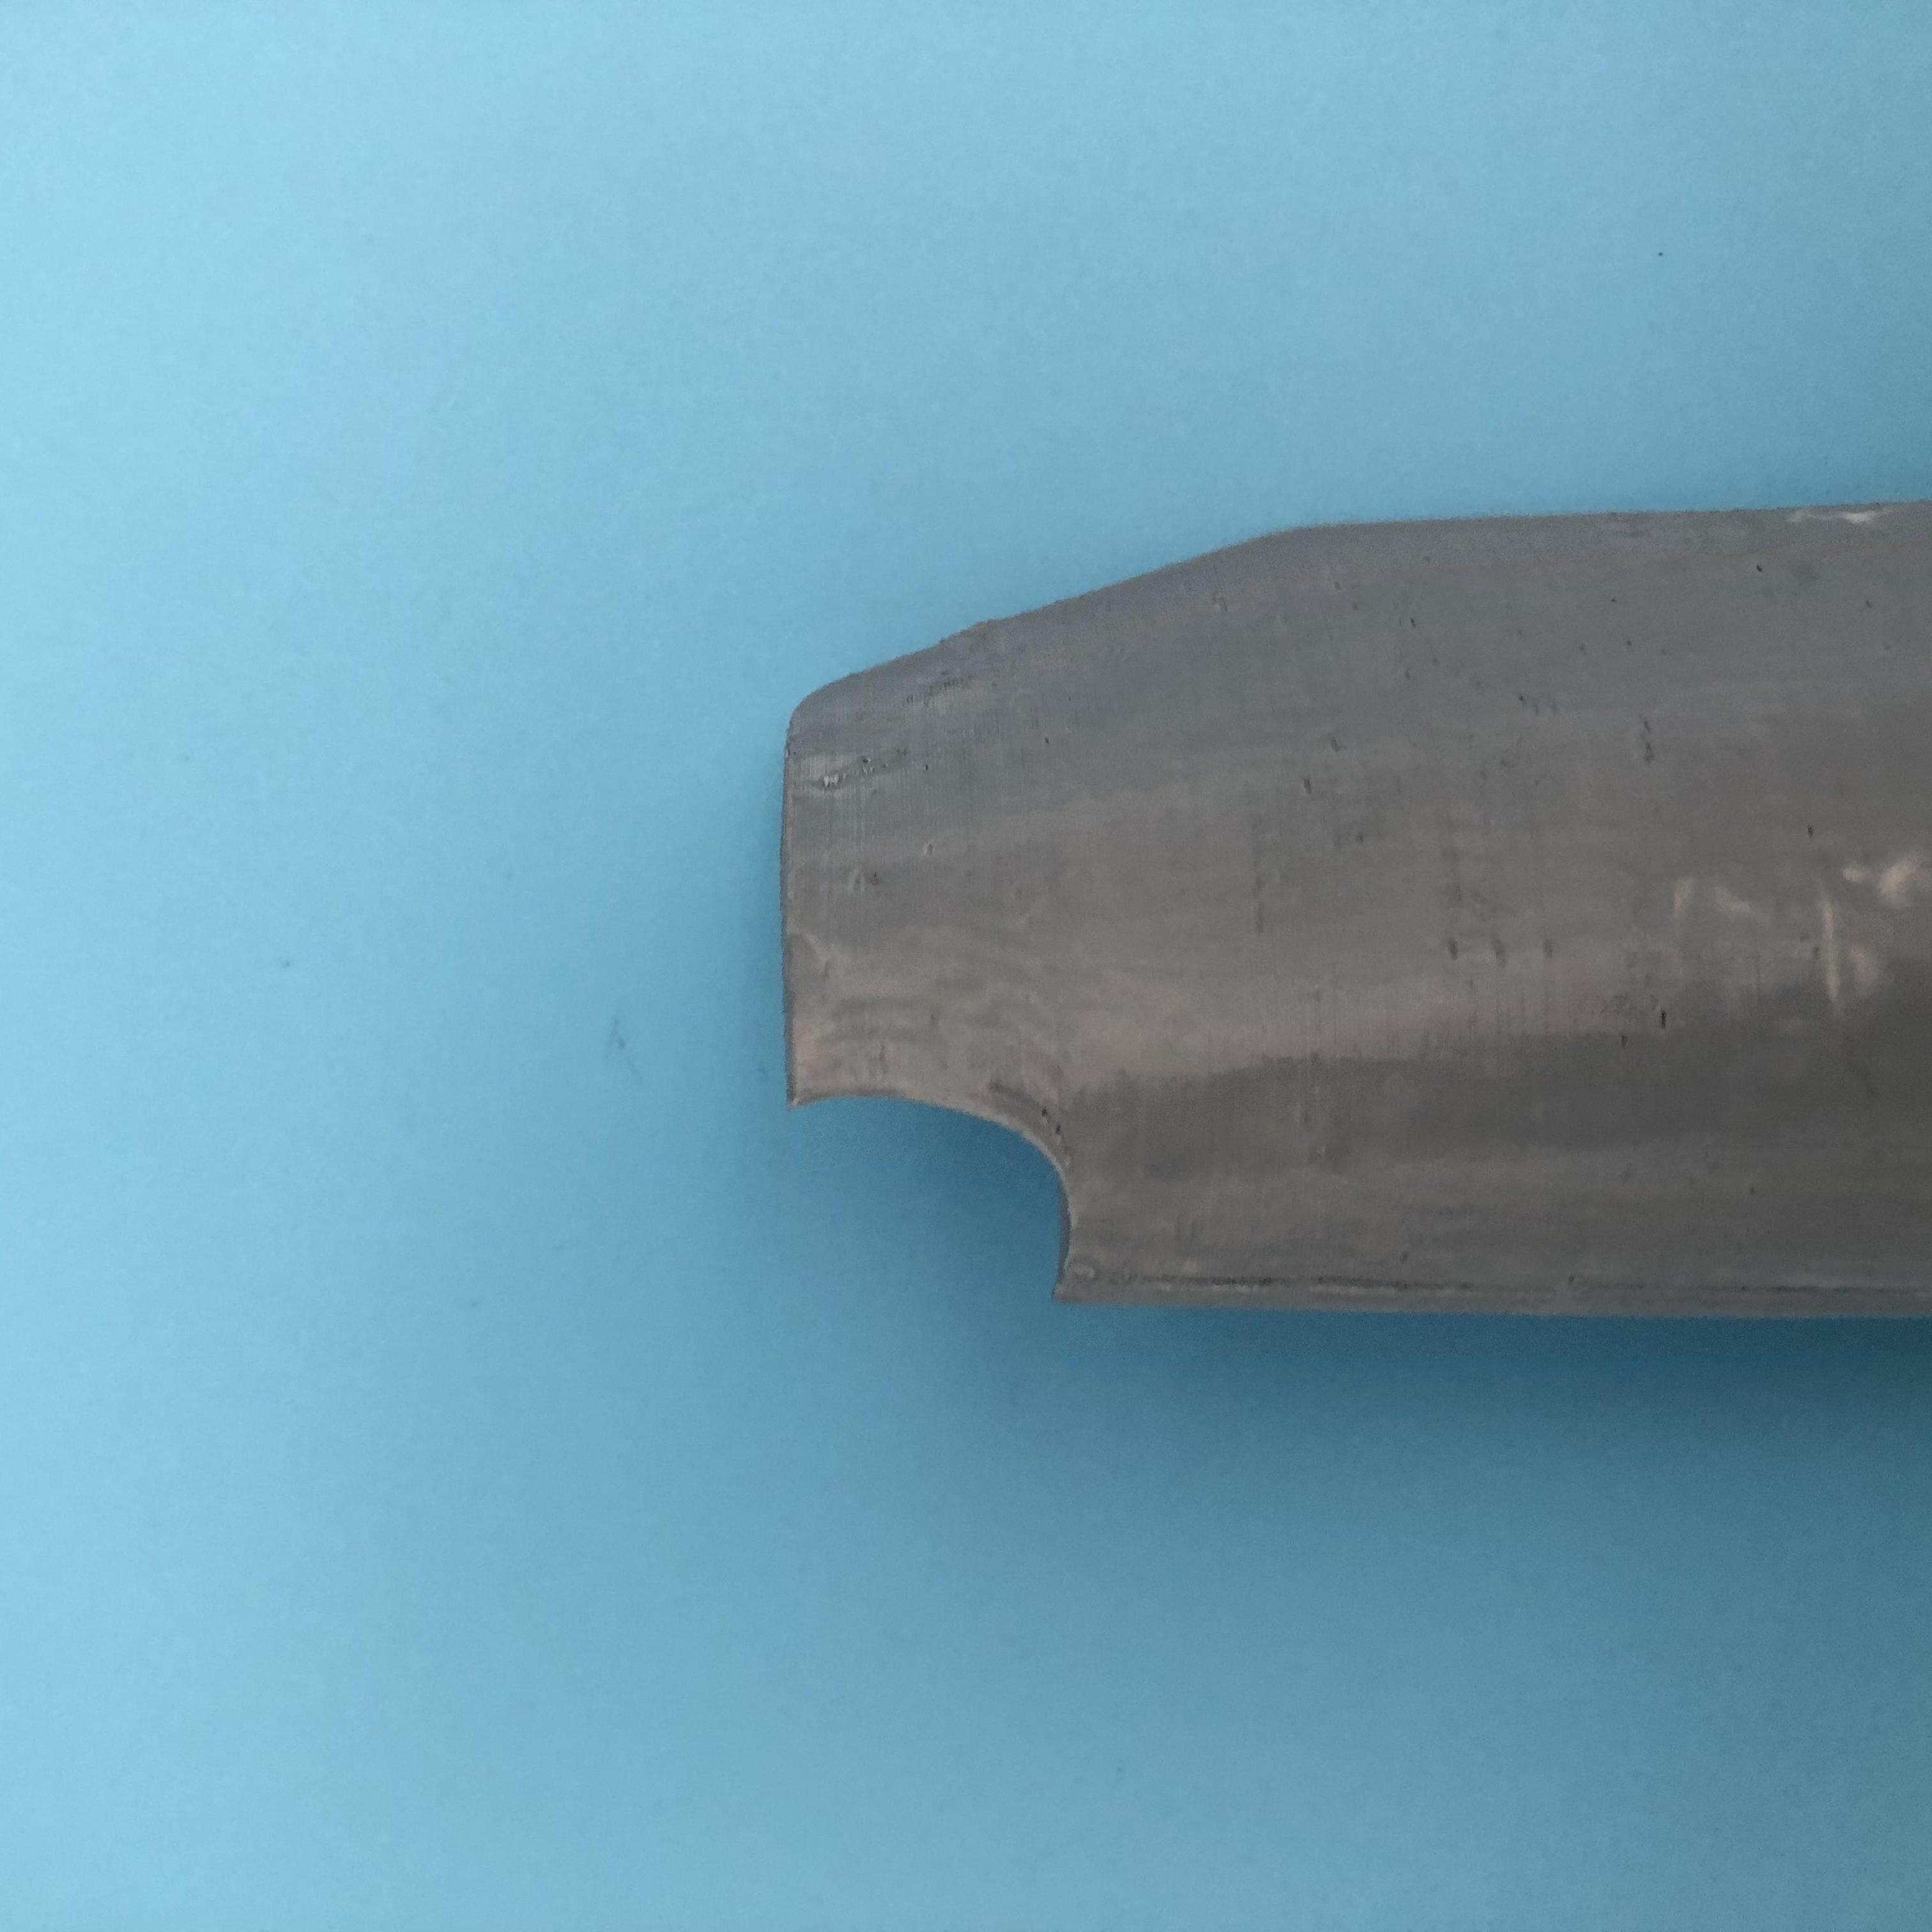fracture: (793, 1031, 1104, 1295)
